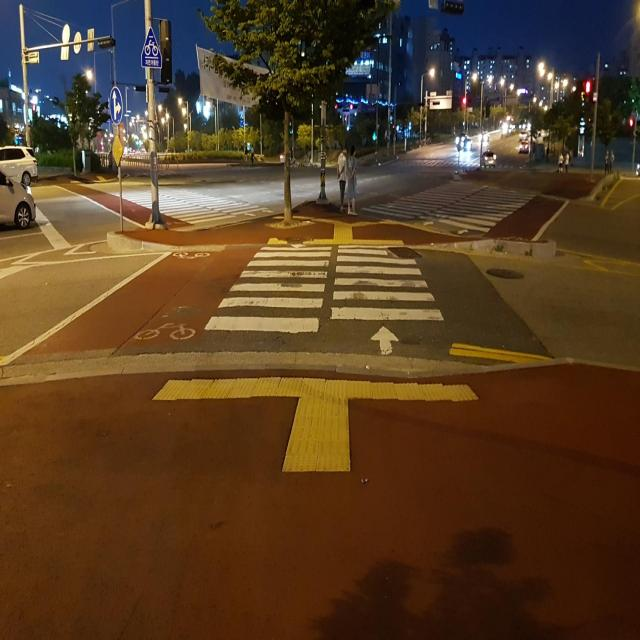빨간불: (581, 78, 591, 112)
횡단보도: (203, 240, 446, 354), (370, 168, 538, 232), (106, 160, 274, 218)
